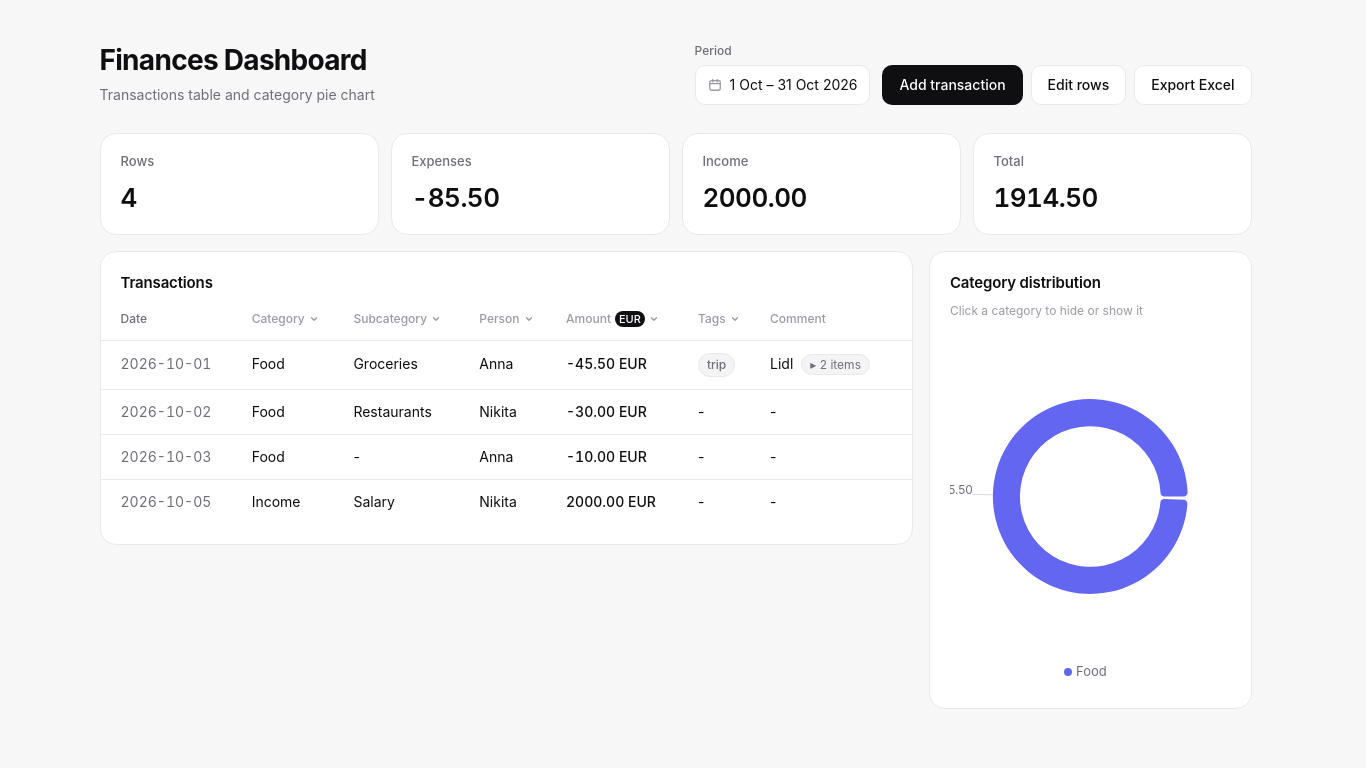
currency filter › switches to one other currency without mixing amounts
Check: the button "Export Excel" is enabled, box [1134,65,1252,105]
Click the button "Amount EUR". click: (612, 319)
box: [562,308,663,330]
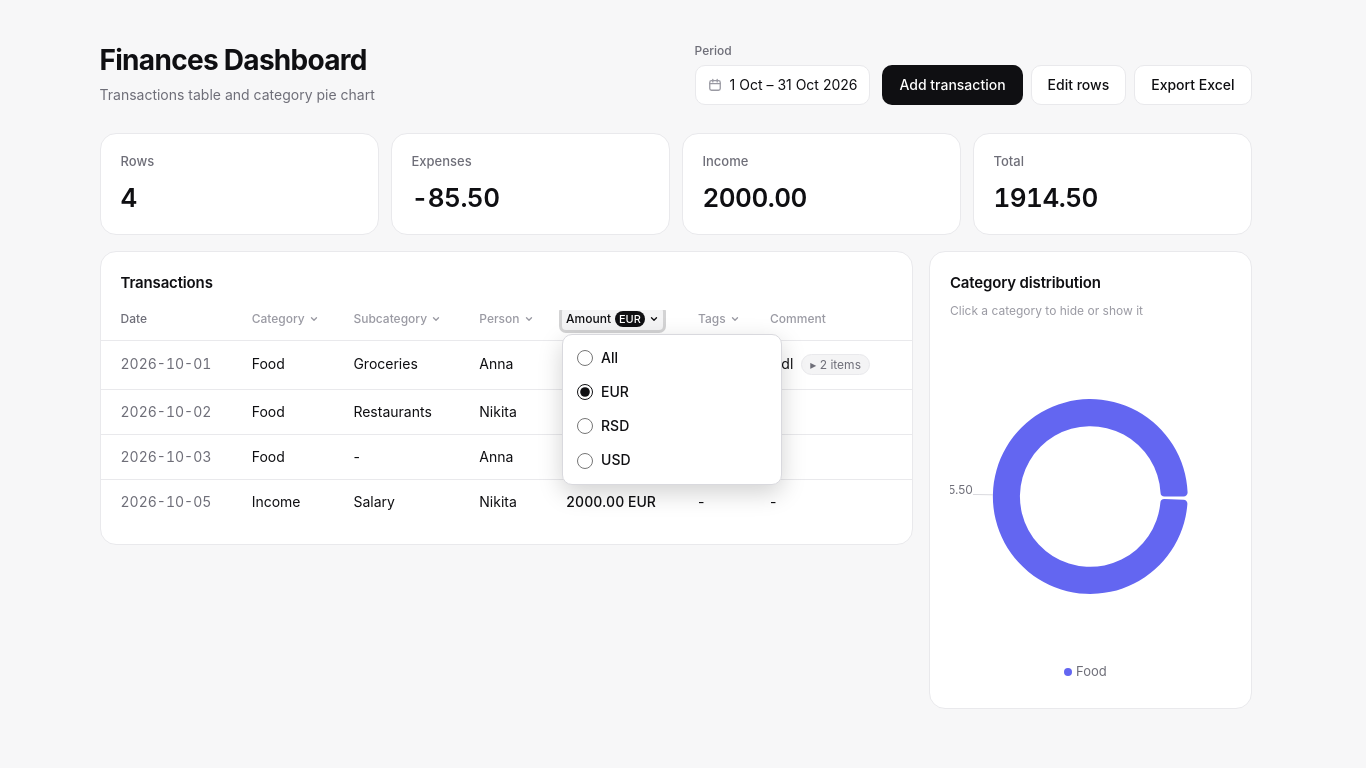
Click the radio button labelled "USD". click: (585, 461)
box: [577,453,593,469]
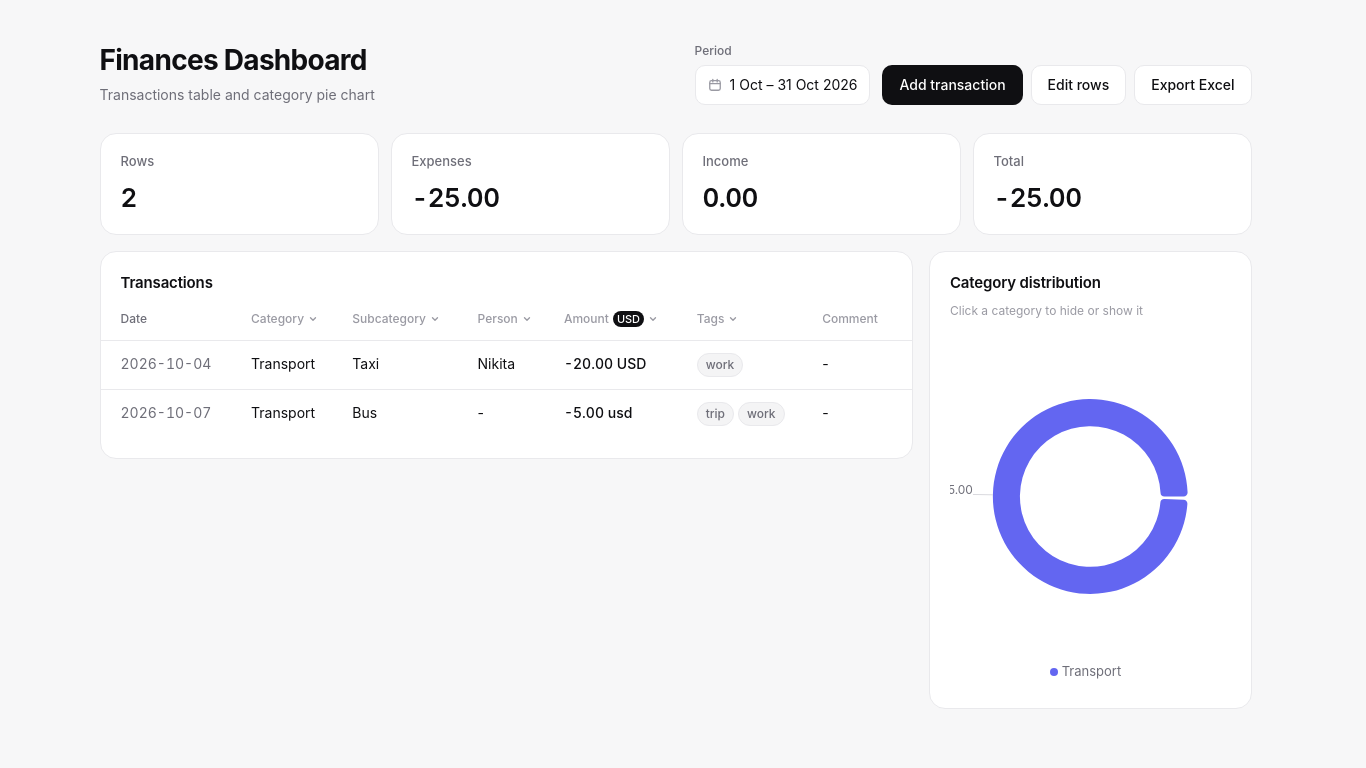
Check: the button "Amount USD" is shown, box [560,310,662,330]
